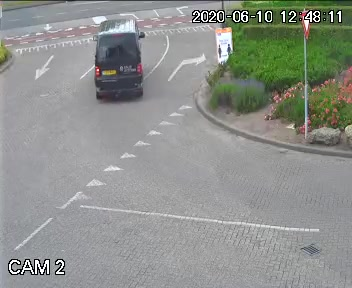car: (89, 14, 149, 103)
